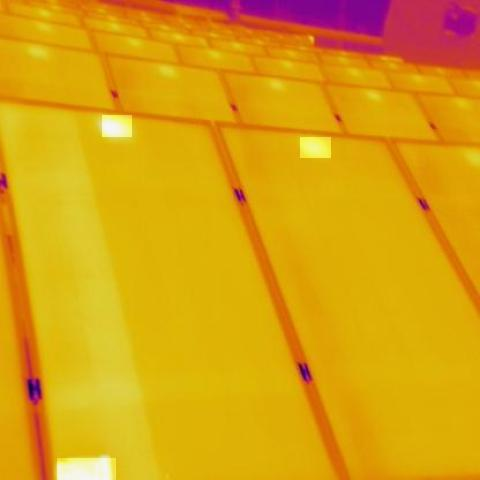fault: (57, 458, 116, 480), (102, 115, 132, 137), (300, 137, 331, 158)
